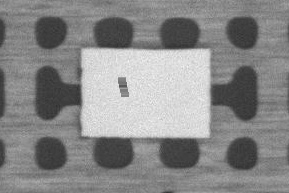DIE_INK: (116, 73, 129, 97)
